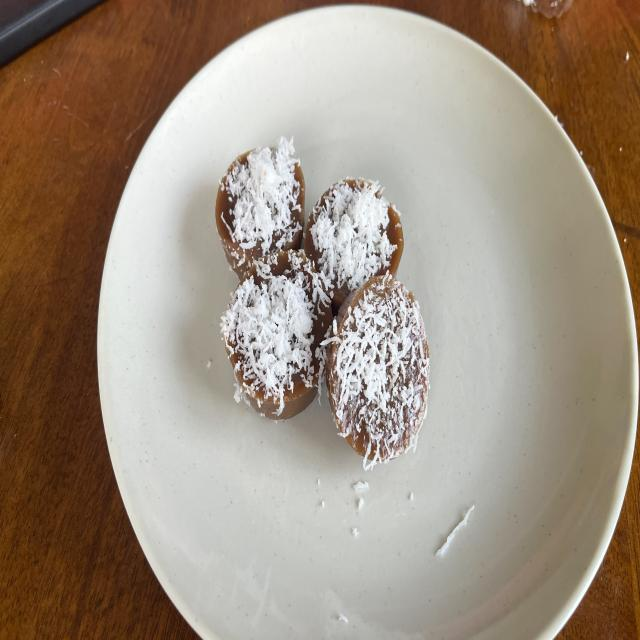Kuih lompang: (322, 273, 430, 469), (220, 251, 332, 420), (305, 178, 404, 311), (215, 138, 305, 278)
